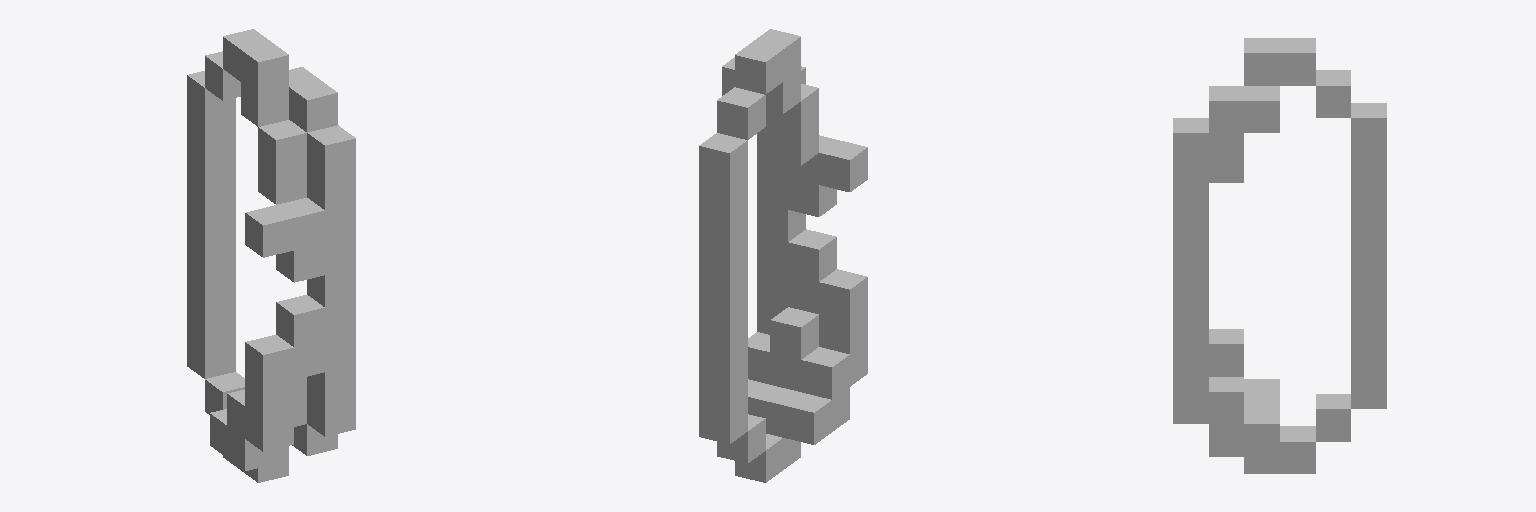
Rendered from BowPull2.obj.
3 renders of one model, left to right at view 1: azimuth 30°, elevation 25°; view 2: azimuth 150°, elevation 25°; view 3: azimuth 270°, elevation 25°, orthographic.
Visible parts, largest first — view 1: object 1; view 2: object 1; view 3: object 1.
Boxes of the visible parts, box(x1,y1,x2,y2) form: object 1: box(187, 29, 355, 482); object 1: box(699, 29, 867, 482); object 1: box(1173, 38, 1386, 473).
Size of the model in its own units: 0.3 by 1.3 by 0.6.